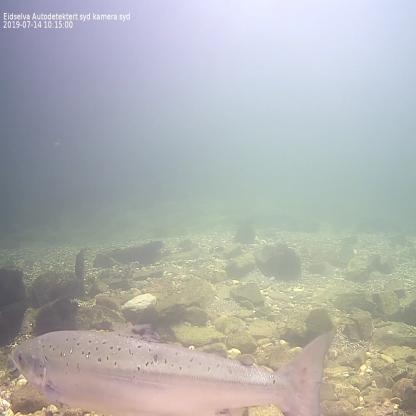salmon: (9, 320, 342, 414)
